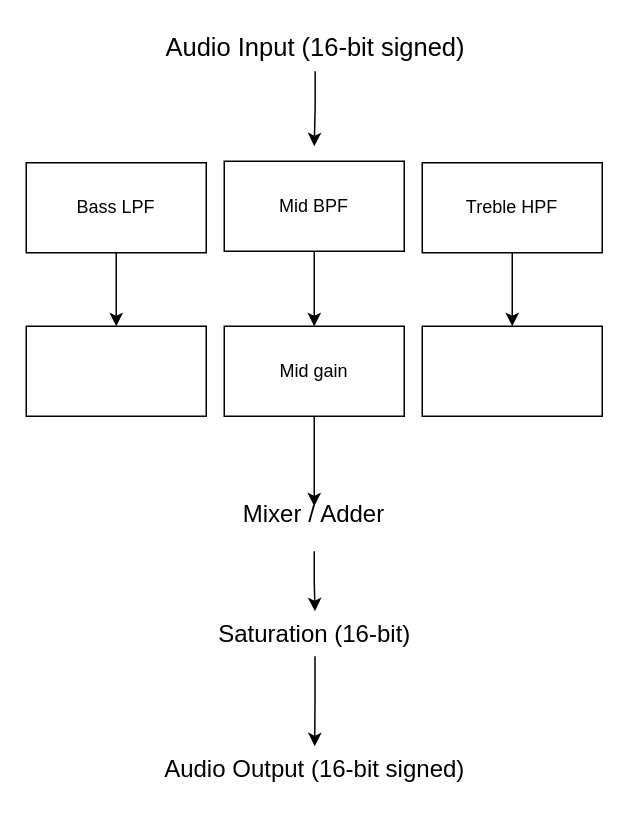
Some shapes in this 629 by 816 pixel diagram are drawn without their labels. Here are the shapes that lost their labels. From the top down, the centre of each, then its label:
At (x=115, y=370): "Bass Gain".
At (x=511, y=370): "Treble Gain".
